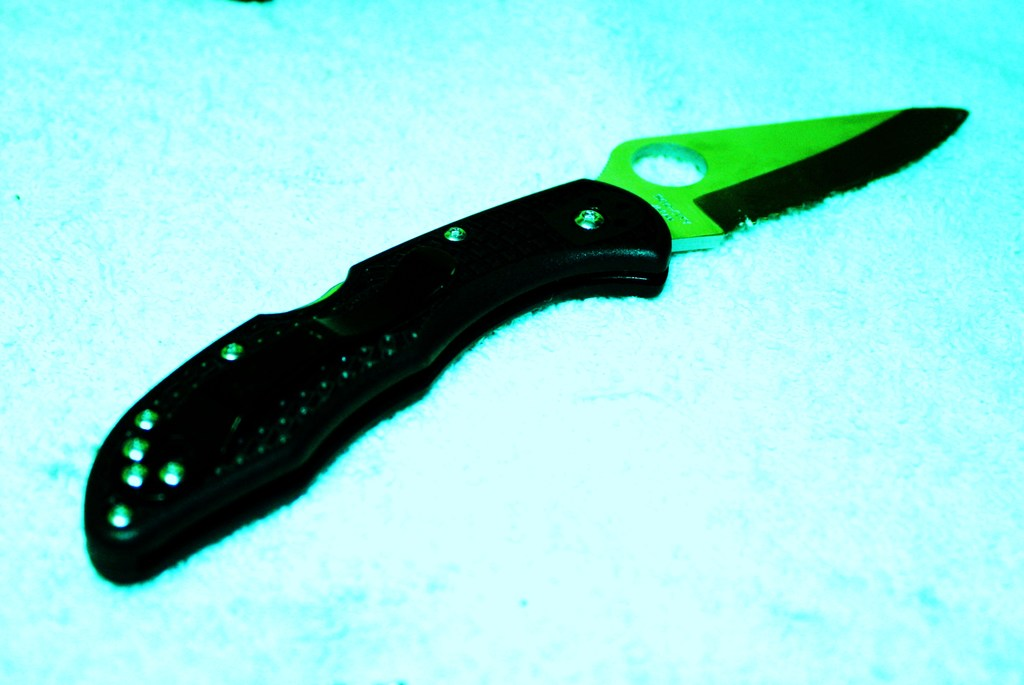knife: (82, 106, 970, 587)
